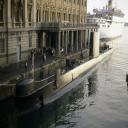submarine: (11, 33, 114, 119)
